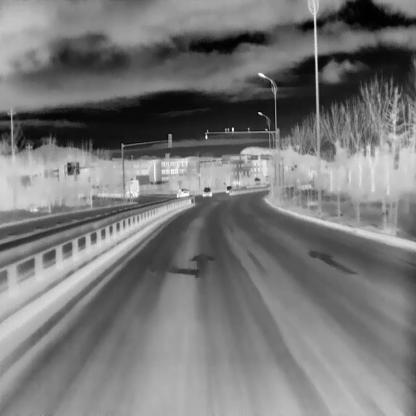car: (176, 187, 189, 197), (202, 186, 212, 196), (225, 185, 232, 193)
